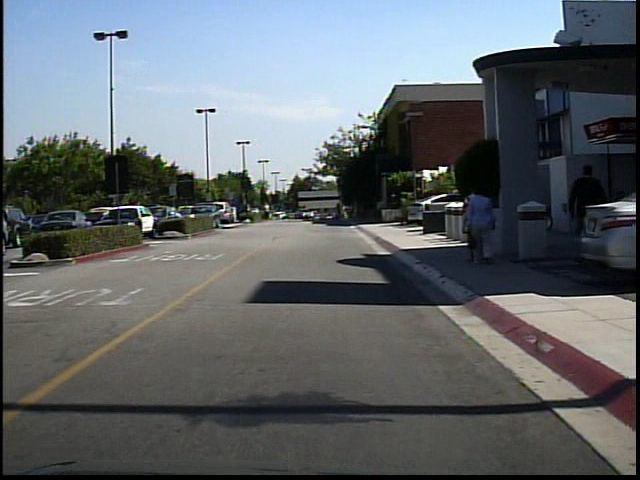person: (564, 160, 613, 259), (467, 183, 499, 267), (465, 188, 486, 265), (341, 202, 354, 226), (264, 199, 275, 223)
